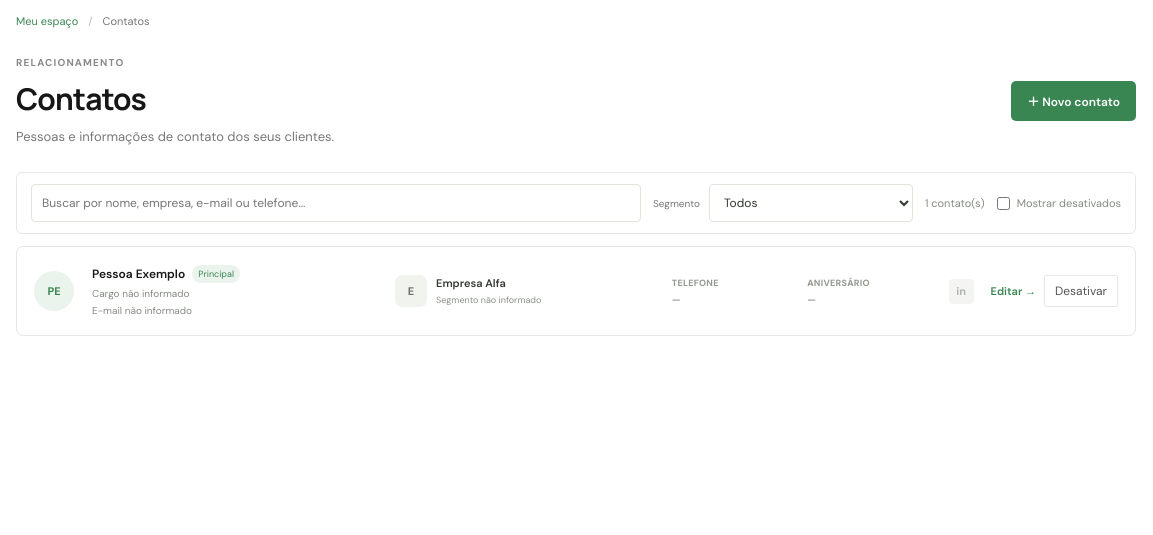
Scenario: Lista de contatos › desativa o contato após confirmação e remove a linha da listagem padrão
Click the button with aria-label "Desativar contato Pessoa Exemplo".
click(1081, 291)  # box [1044, 275, 1118, 307]
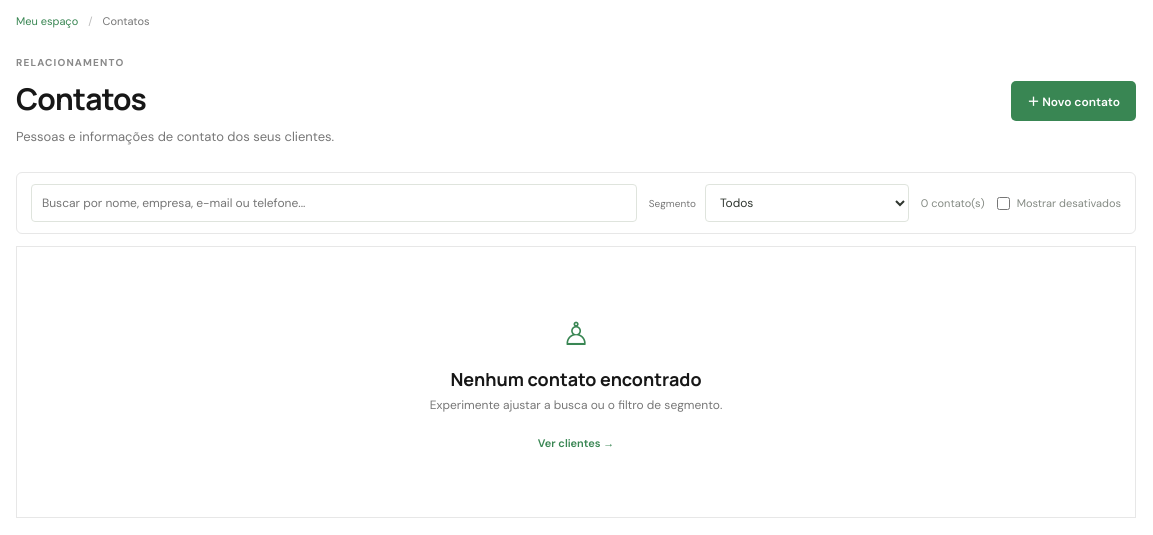
Expected: the text "Pessoa Exemplo" is gone
Expected: the text "0 contato(s)" is shown, [921, 196, 985, 210]
